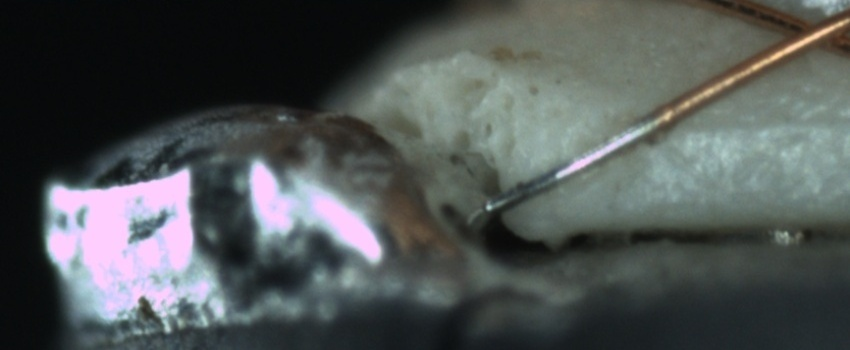CL: (762, 2, 850, 61)
DL: (671, 94, 849, 158)
TS: (484, 115, 661, 220)
